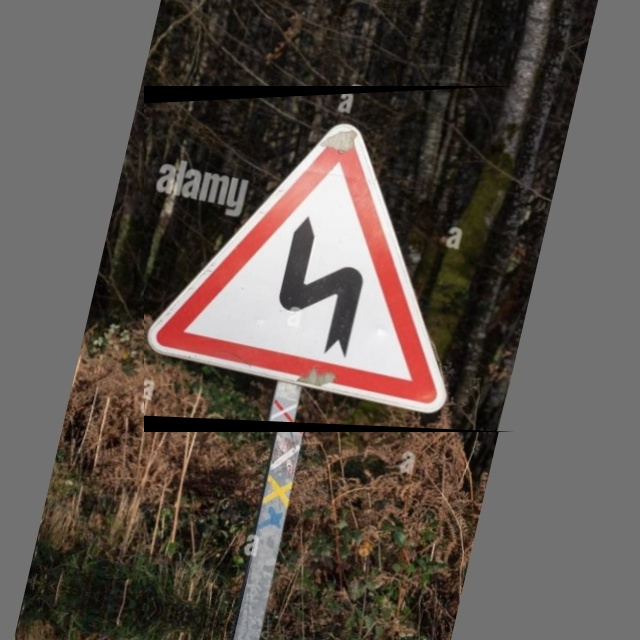Left_Reverse_Bend: (144, 86, 515, 432)
